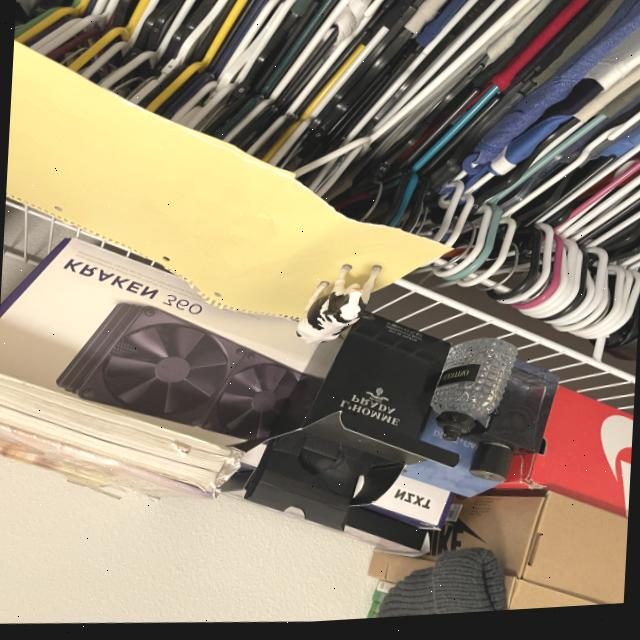cow: (292, 249, 384, 363)
